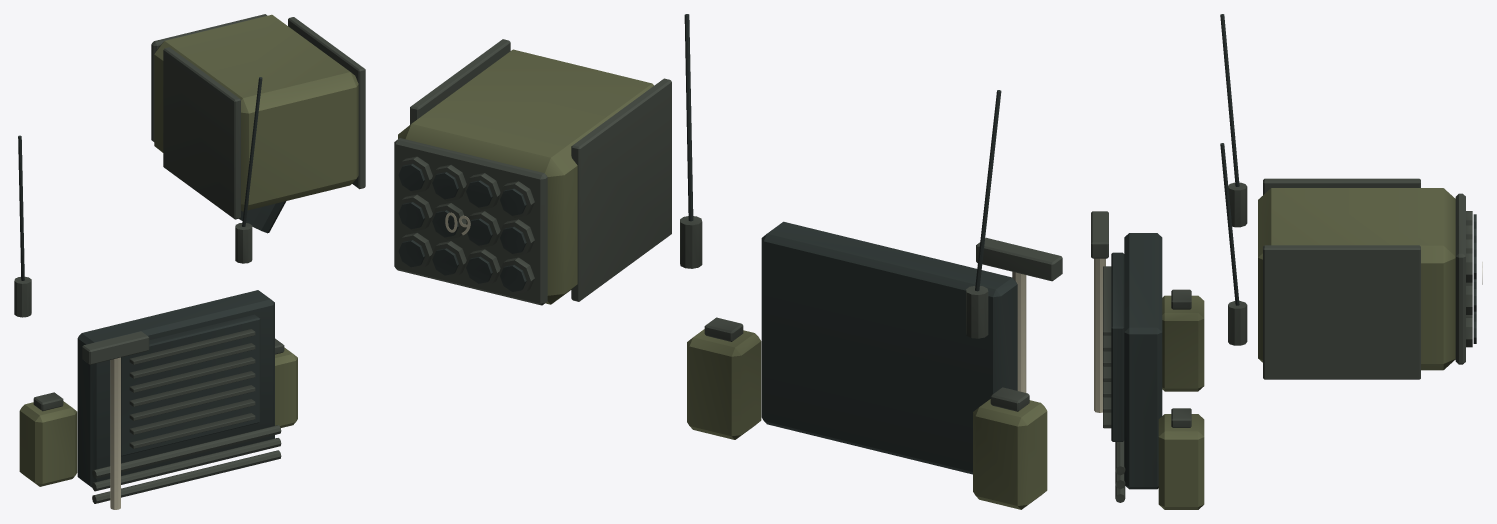
The model's file is backpack.glb.
3 views of the same model, side by side, from view 1: azimuth 30°, elevation 25°; view 2: azimuth 150°, elevation 25°; view 3: azimuth 270°, elevation 25° (orthographic). The views are drawn at different scales.
Parts seen in each view (by area): view 1: Hornet_housing, Cooling_frame, Pod_strap, Turbine_louvres_well, Jerrycan, Pod_strap.001, Tow_cable, Tow_cable.001, Tow_cable.002, Jerrycan.001, Tool_shaft, Tool_head (+14 smaller); view 2: Cooling_frame, Hornet_housing, Pod_strap, Hornet_face, Jerrycan.001, Jerrycan, Tool_head, Pod_strap.001, Tool_shaft, Antenna_base.001, Antenna_base, Whip_antenna.001 (+1 smaller); view 3: Pod_strap.001, Hornet_housing, Cooling_frame, Jerrycan.001, Jerrycan, Turbine_louvres_well, Hornet_face, Pod_strap, Tool_shaft, Tool_head, Antenna_base, Whip_antenna (+3 smaller).
Part boxes in pixels (bbox=[...]): Hornet_housing: bbox=[154, 14, 358, 211]; Cooling_frame: bbox=[77, 290, 274, 487]; Pod_strap: bbox=[163, 47, 240, 219]; Turbine_louvres_well: bbox=[121, 314, 260, 456]; Jerrycan: bbox=[19, 401, 77, 486]; Pod_strap.001: bbox=[288, 17, 365, 189]; Tow_cable: bbox=[92, 450, 281, 503]; Tow_cable.001: bbox=[92, 438, 281, 491]; Tow_cable.002: bbox=[92, 425, 281, 478]; Jerrycan.001: bbox=[275, 347, 297, 427]; Tool_shaft: bbox=[110, 357, 120, 509]; Tool_head: bbox=[82, 331, 149, 364]; Cooling_frame: bbox=[761, 221, 1017, 474]; Hornet_housing: bbox=[398, 49, 653, 304]; Pod_strap: bbox=[571, 78, 671, 301]; Hornet_face: bbox=[394, 138, 547, 305]; Jerrycan.001: bbox=[687, 329, 761, 439]; Jerrycan: bbox=[973, 399, 1047, 509]; Tool_head: bbox=[976, 237, 1062, 281]; Pod_strap.001: bbox=[410, 39, 510, 124]; Tool_shaft: bbox=[1012, 271, 1026, 392]; Antenna_base.001: bbox=[966, 286, 988, 338]; Antenna_base: bbox=[680, 216, 702, 268]; Whip_antenna.001: bbox=[684, 14, 693, 221]; Pod_strap.001: bbox=[1263, 245, 1420, 379]; Hornet_housing: bbox=[1258, 188, 1455, 370]; Cooling_frame: bbox=[1124, 233, 1162, 489]; Jerrycan.001: bbox=[1158, 414, 1204, 509]; Jerrycan: bbox=[1162, 295, 1204, 391]; Turbine_louvres_well: bbox=[1111, 252, 1124, 441]; Hornet_face: bbox=[1455, 193, 1465, 364]; Pod_strap: bbox=[1263, 178, 1420, 194]; Tool_shaft: bbox=[1094, 258, 1105, 412]; Tool_head: bbox=[1091, 211, 1108, 258]; Antenna_base: bbox=[1228, 301, 1247, 345]; Whip_antenna: bbox=[1220, 14, 1239, 186].
Bounding box in the file's own units: 0.9365 × 0.8104 × 0.7688.
